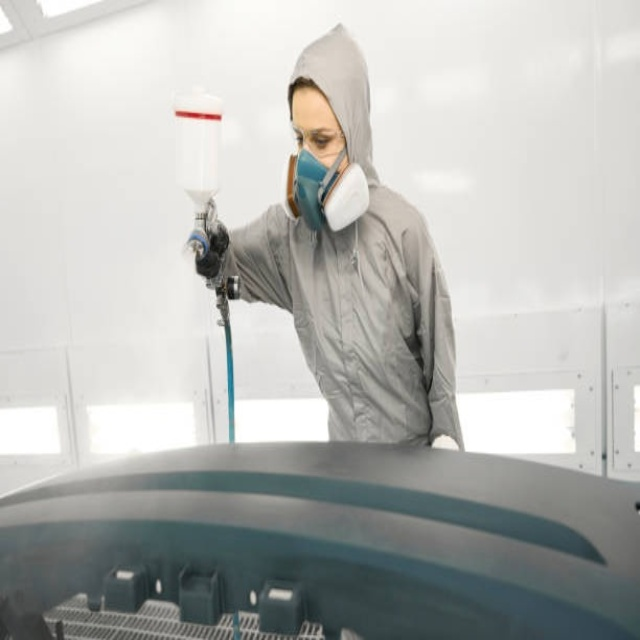Gafas: (290, 124, 343, 158)
Guantes: (190, 210, 231, 275)
Mascara: (290, 143, 358, 233)
